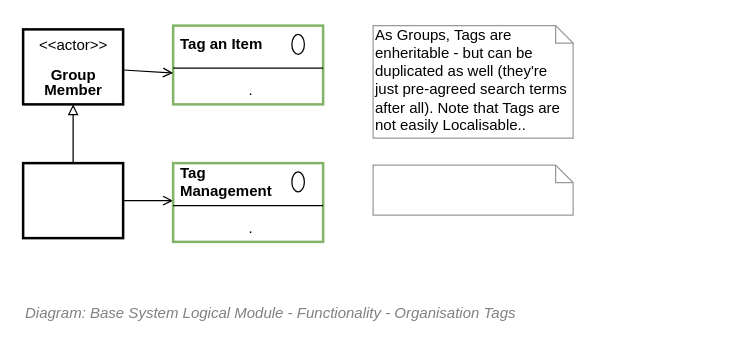
This 744x346 diagram has some shape labels left out. Here are the shapes that lost their labels. From the top down, the centre of each, then its label:
[72,200]: <<actor>> Group Tag Admin
[472,189]: Tag Management includes creation of Aliases ("Mgmt" for "Management")
